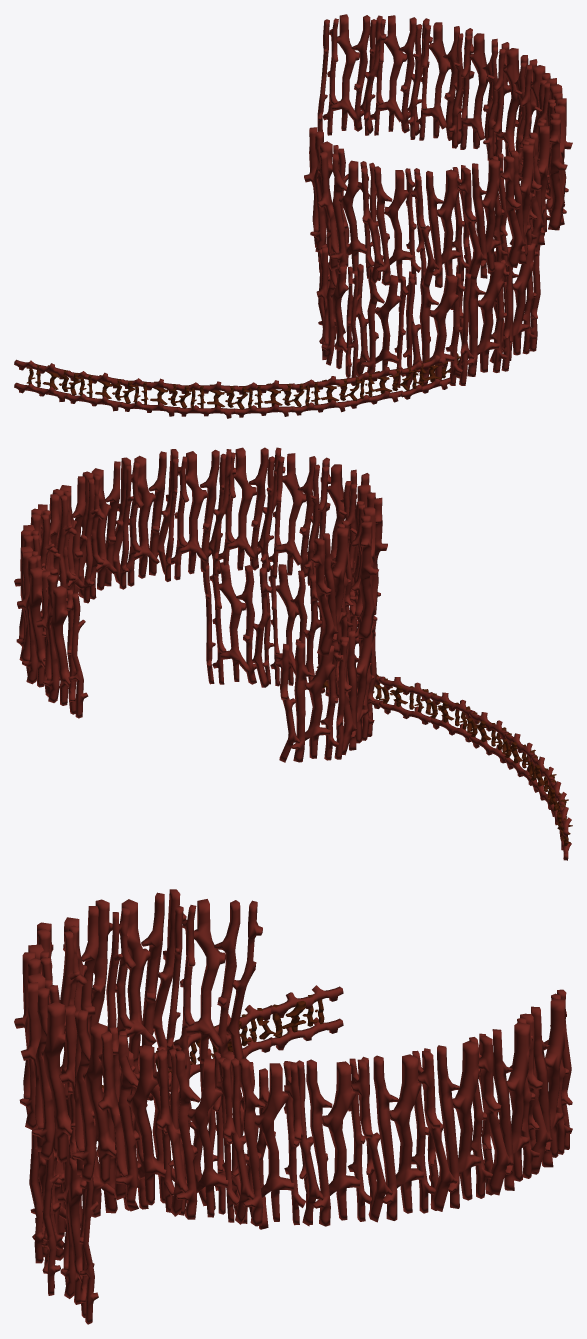
File: SticksLvl3.fbx
3 renders of one model, top to bottom at view 1: azimuth 30°, elevation 25°; view 2: azimuth 150°, elevation 25°; view 3: azimuth 270°, elevation 25°, orthographic. The views are drawn at different scales.
Parts seen in each view (by area): view 1: Stick.Lvl3.004, Stick.Lvl3.001, Stick.Lvl3.003, Stick.Lvl3.002; view 2: Stick.Lvl3.004, Stick.Lvl3.001, Stick.Lvl3.003, Stick.Lvl3.002; view 3: Stick.Lvl3.004, Stick.Lvl3.001, Stick.Lvl3.003, Stick.Lvl3.002.
Boxes of the visible parts, box(x1,y1,x2,y2) form: Stick.Lvl3.004: box(304, 14, 572, 288); Stick.Lvl3.001: box(316, 240, 540, 389); Stick.Lvl3.003: box(14, 355, 450, 418); Stick.Lvl3.002: box(26, 353, 460, 409); Stick.Lvl3.004: box(14, 447, 387, 718); Stick.Lvl3.001: box(203, 562, 376, 762); Stick.Lvl3.003: box(325, 676, 571, 860); Stick.Lvl3.002: box(316, 666, 572, 846); Stick.Lvl3.004: box(14, 889, 572, 1226); Stick.Lvl3.001: box(29, 1045, 275, 1324); Stick.Lvl3.003: box(35, 985, 343, 1222); Stick.Lvl3.002: box(44, 994, 324, 1247).
Bounding box in the file's own units: 1942 × 807 × 1303.
